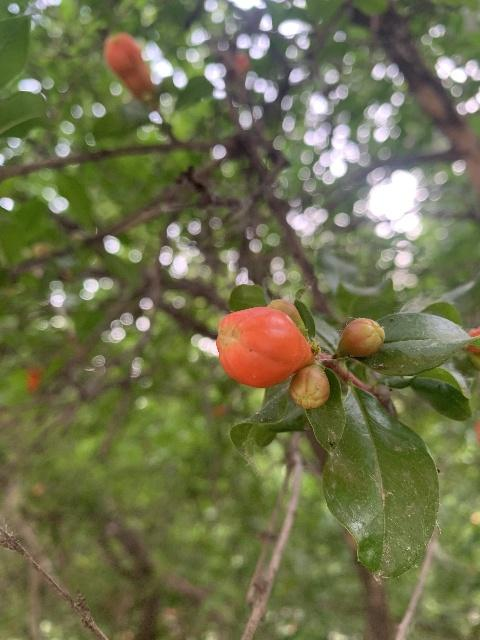bud: (215, 304, 312, 388), (103, 32, 156, 104), (337, 317, 384, 358), (289, 365, 329, 409), (267, 300, 306, 335)
